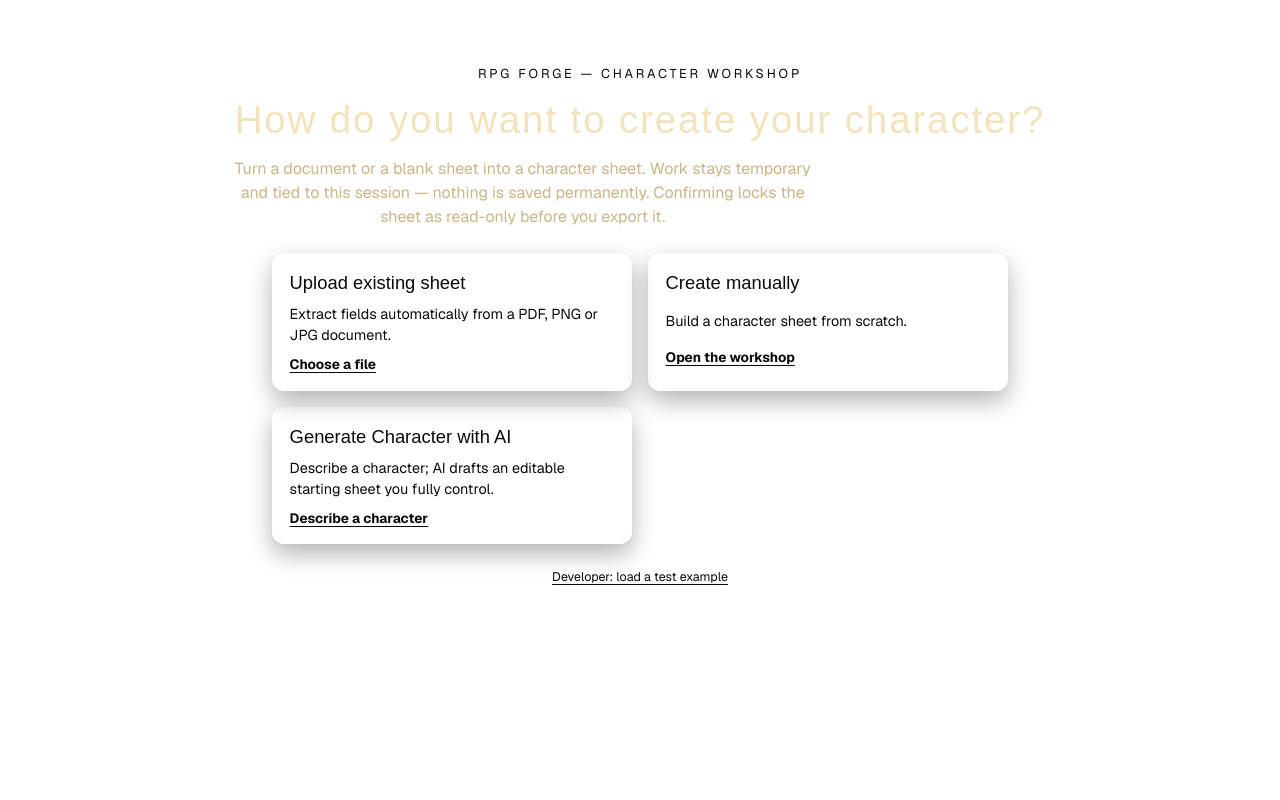
Test: CharacterWorkshopV2 › offers Generate Character with AI as an enabled entry, distinct from final generation
Click the button "Generate Character with AI" at (452, 475), box [272, 406, 632, 544]
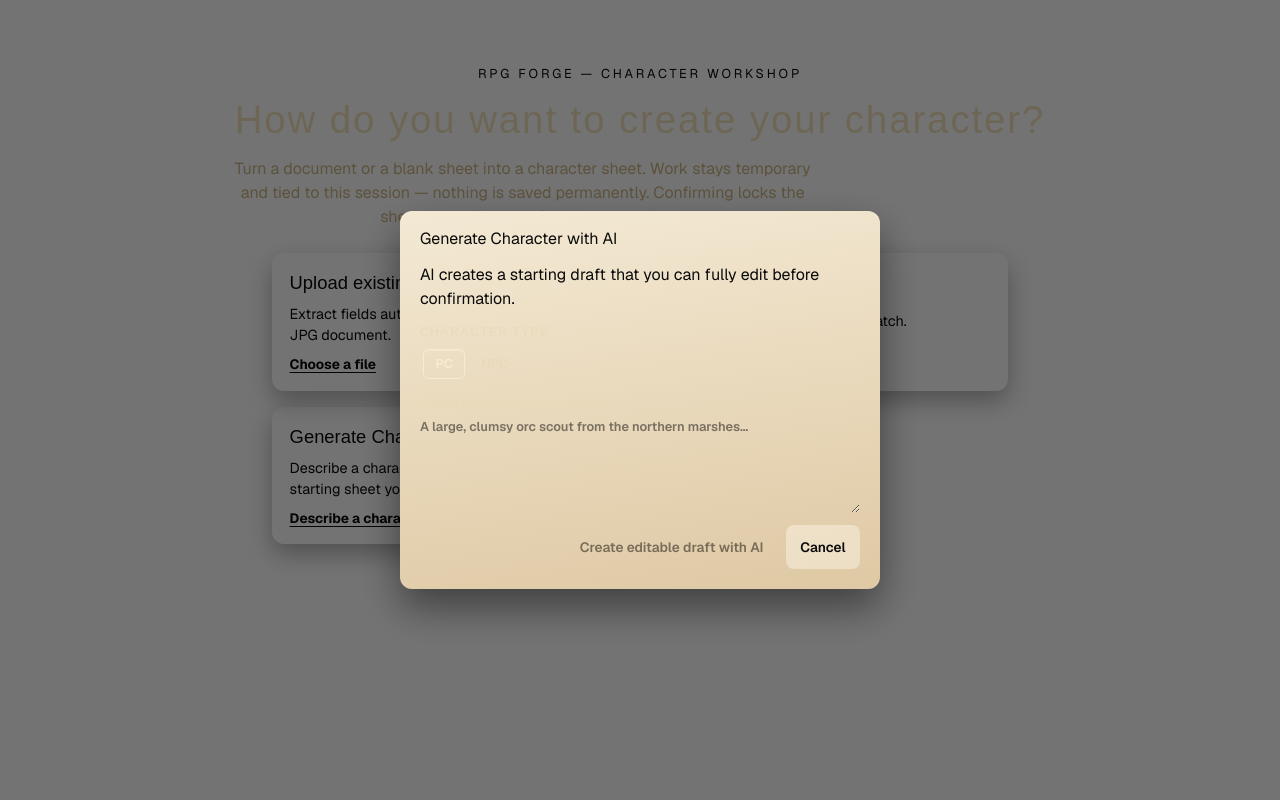
Now the dialog "Generate Character with AI" is shown
Now the button "Create editable draft with AI" is disabled, box [565, 525, 778, 569]
